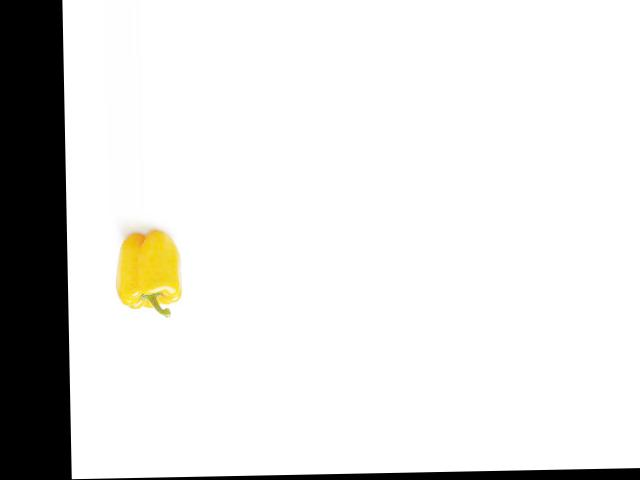bell_pepper: (114, 228, 191, 322)
